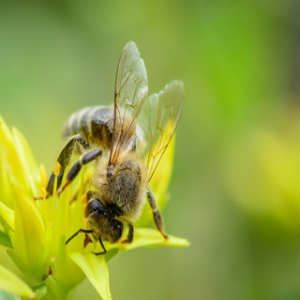bee: (46, 41, 188, 249)
